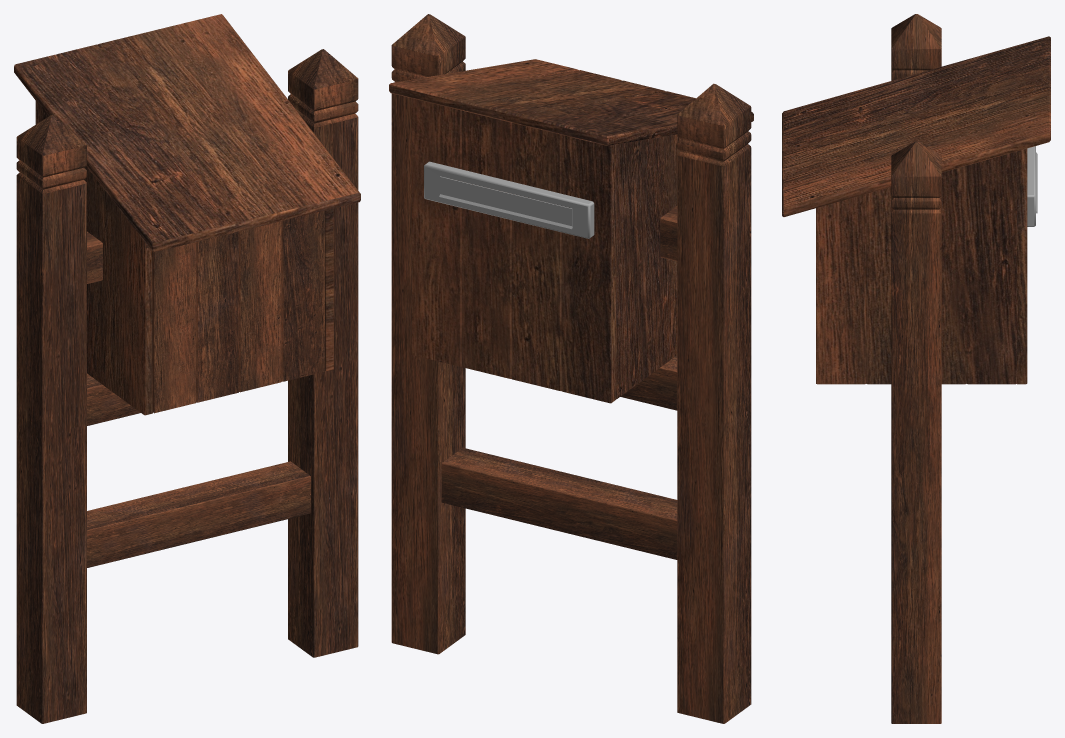
File: mailbox.gltf
3 renders of one model, left to right at view 1: azimuth 30°, elevation 25°; view 2: azimuth 150°, elevation 25°; view 3: azimuth 270°, elevation 25°, orthographic. The views are drawn at different scales.
Parts seen in each view (by area): view 1: Cube.001; view 2: Cube.001; view 3: Cube.001.
Part boxes in pixels (left/top/right/bottom): Cube.001: left=14, top=14, right=360, bottom=723; Cube.001: left=389, top=14, right=753, bottom=723; Cube.001: left=782, top=14, right=1050, bottom=723.
Bounding box in the file's own units: 70 × 125 × 53.41.
2 materials, 1 textured.
